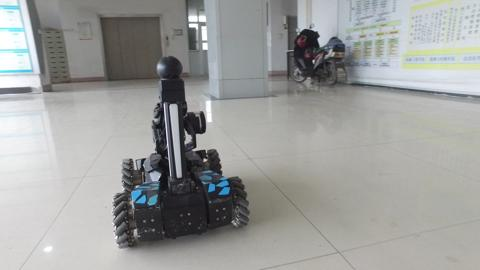chariot: (91, 50, 263, 250)
